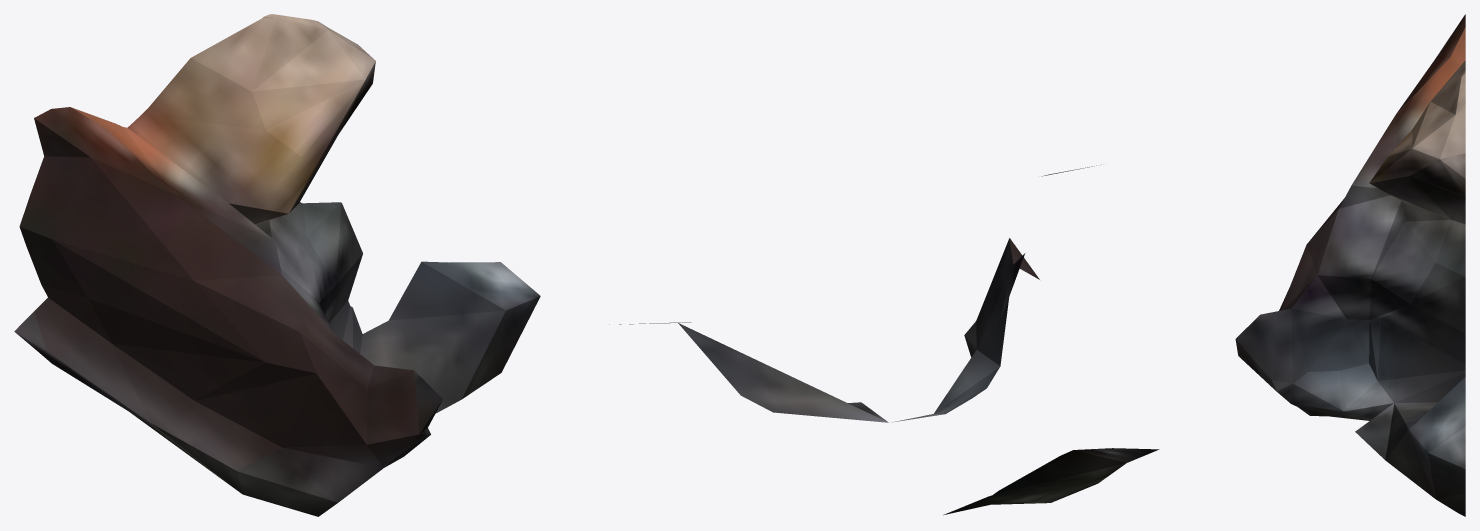
3 views of the same model, side by side, from view 1: azimuth 30°, elevation 25°; view 2: azimuth 150°, elevation 25°; view 3: azimuth 270°, elevation 25° (orthographic). The views are drawn at different scales.
Bounding box in the file's own units: 0.3848 × 0.3061 × 0.1761.
Materials: 1 (1 with a texture image).
